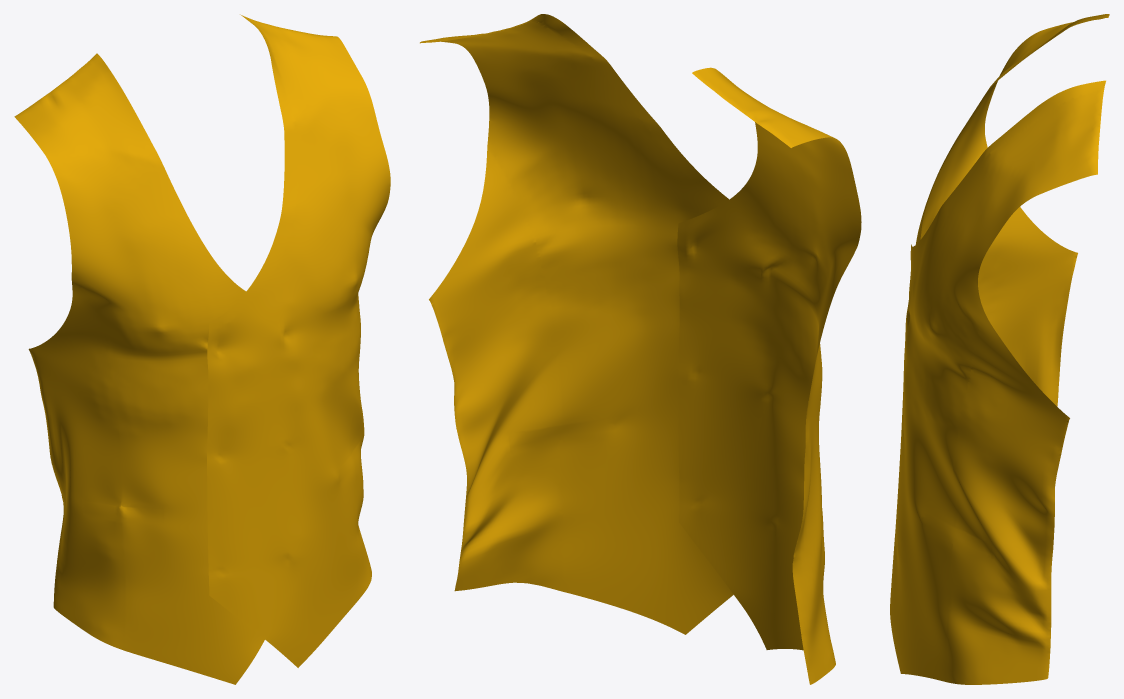
The model's file is Front_Mao.fbx.
3 views of the same model, side by side, from view 1: azimuth 30°, elevation 25°; view 2: azimuth 150°, elevation 25°; view 3: azimuth 270°, elevation 25° (orthographic). The views are drawn at different scales.
Parts seen in each view (by area): view 1: Front_Mao; view 2: Front_Mao; view 3: Front_Mao.
Boxes of the visible parts, x1=… form: Front_Mao: x1=14, y1=14, x2=390, y2=684; Front_Mao: x1=420, y1=14, x2=861, y2=684; Front_Mao: x1=890, y1=14, x2=1109, y2=684.
Bounding box in the file's own units: 35.49 × 60.17 × 19.57.
